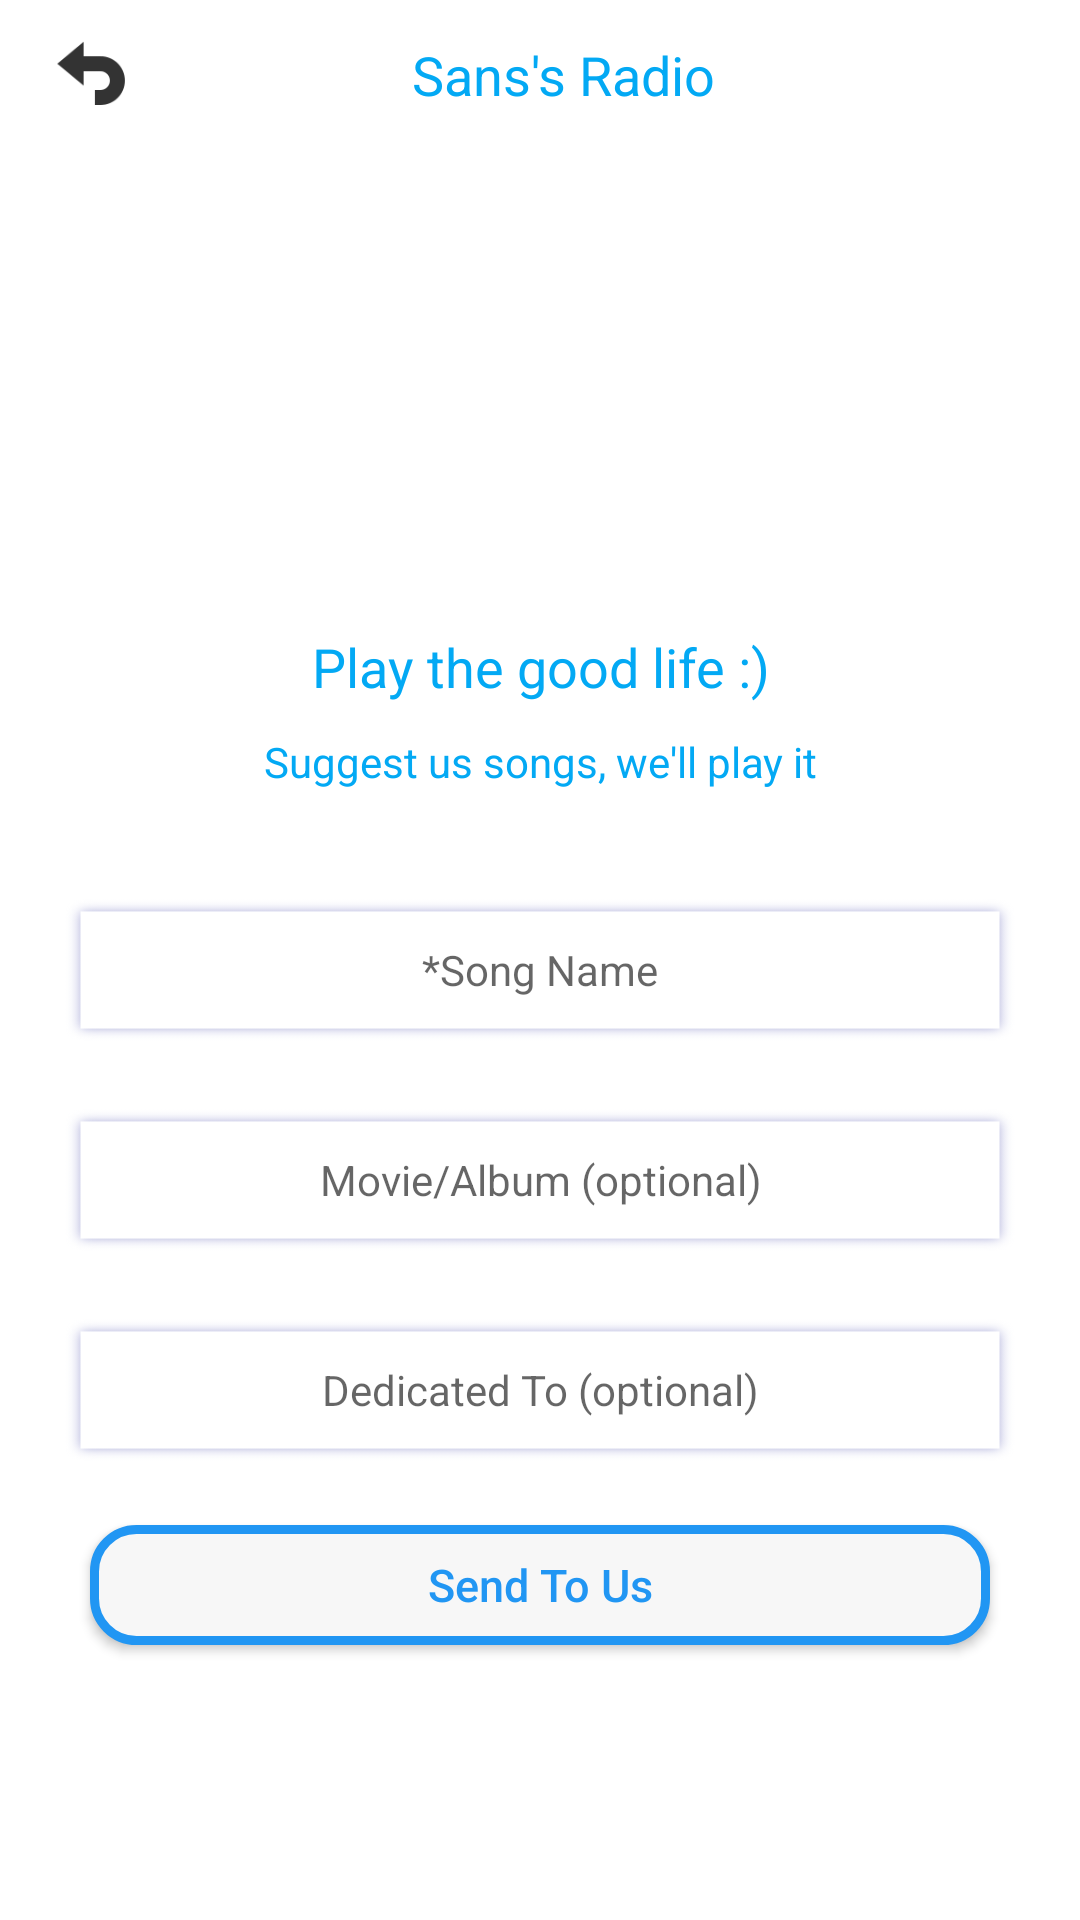

Point at icon controls on the screen. Image size 1080 x 1920, points as point (x, y).
back: point (91, 73)
